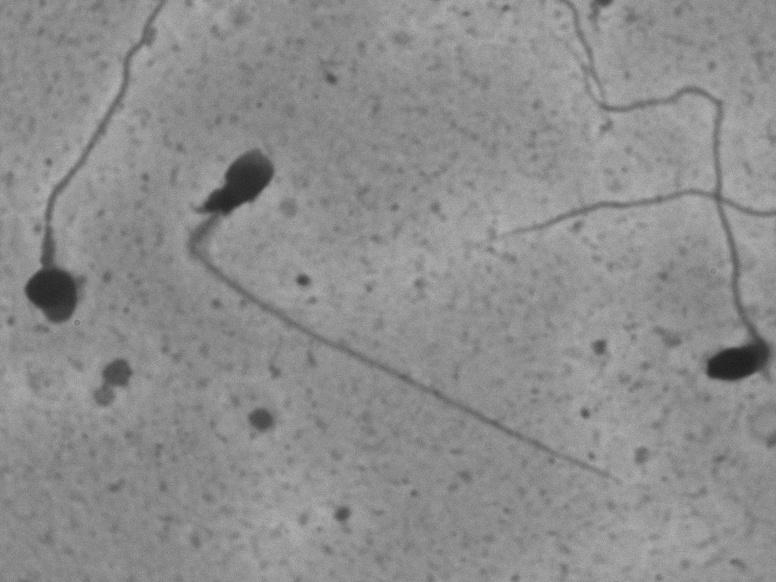Abnormal: (170, 138, 637, 509), (567, 48, 770, 401), (8, 16, 171, 338)
